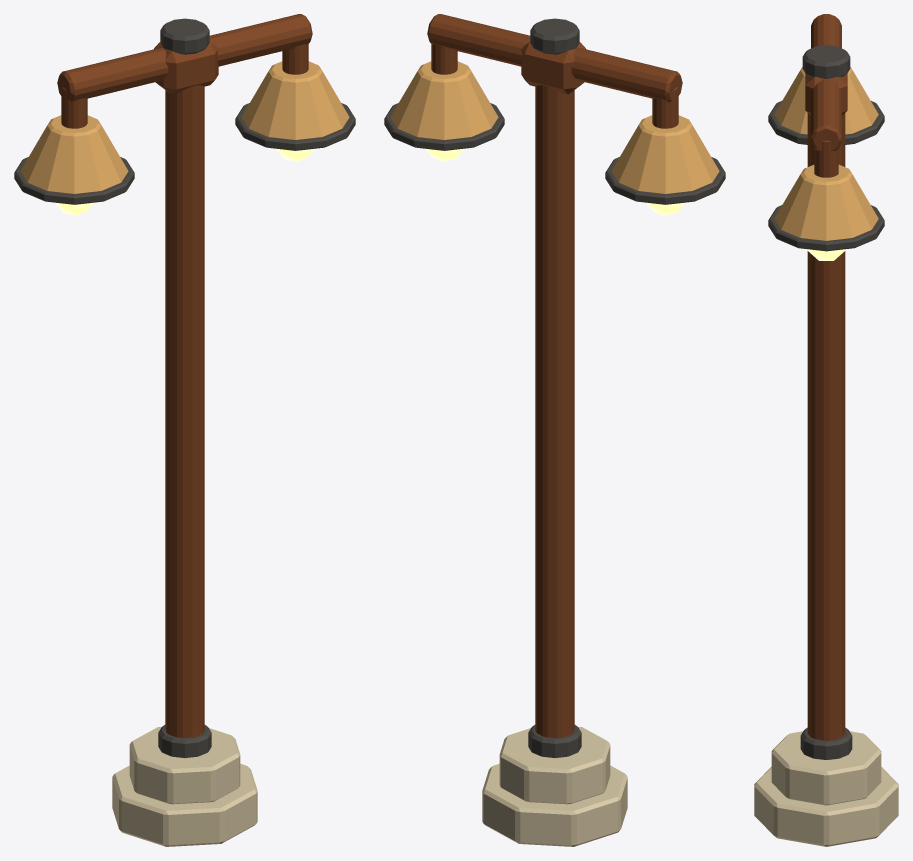
Rendered from DoubleGardenLightPole.glb.
3 views of the same model, side by side, from view 1: azimuth 30°, elevation 25°; view 2: azimuth 150°, elevation 25°; view 3: azimuth 270°, elevation 25° (orthographic). The views are drawn at different scales.
Visible parts, largest first — view 1: DoubleGardenLightPole_Wood, DoubleGardenLightPole_LimestoneBase, DoubleGardenLightPole_Shades, DoubleGardenLightPole_DarkMetal; view 2: DoubleGardenLightPole_Wood, DoubleGardenLightPole_LimestoneBase, DoubleGardenLightPole_Shades, DoubleGardenLightPole_DarkMetal; view 3: DoubleGardenLightPole_Wood, DoubleGardenLightPole_LimestoneBase, DoubleGardenLightPole_Shades, DoubleGardenLightPole_DarkMetal, DoubleGardenLightPole_BulbRight.
Boxes of the visible parts, x1,y1,x2,y2 form: DoubleGardenLightPole_Wood: (57,14,312,737); DoubleGardenLightPole_LimestoneBase: (112,727,257,846); DoubleGardenLightPole_Shades: (20,61,349,193); DoubleGardenLightPole_DarkMetal: (14,18,355,757); DoubleGardenLightPole_Wood: (427,14,682,737); DoubleGardenLightPole_LimestoneBase: (482,727,627,846); DoubleGardenLightPole_Shades: (390,61,719,193); DoubleGardenLightPole_DarkMetal: (384,18,725,757); DoubleGardenLightPole_Wood: (805,14,847,740); DoubleGardenLightPole_LimestoneBase: (754,731,898,846); DoubleGardenLightPole_Shades: (774,67,878,240); DoubleGardenLightPole_DarkMetal: (768,45,884,759); DoubleGardenLightPole_BulbRight: (807,249,845,260).
Bounding box in the file's own units: 0.942 × 2.19 × 0.3739.
